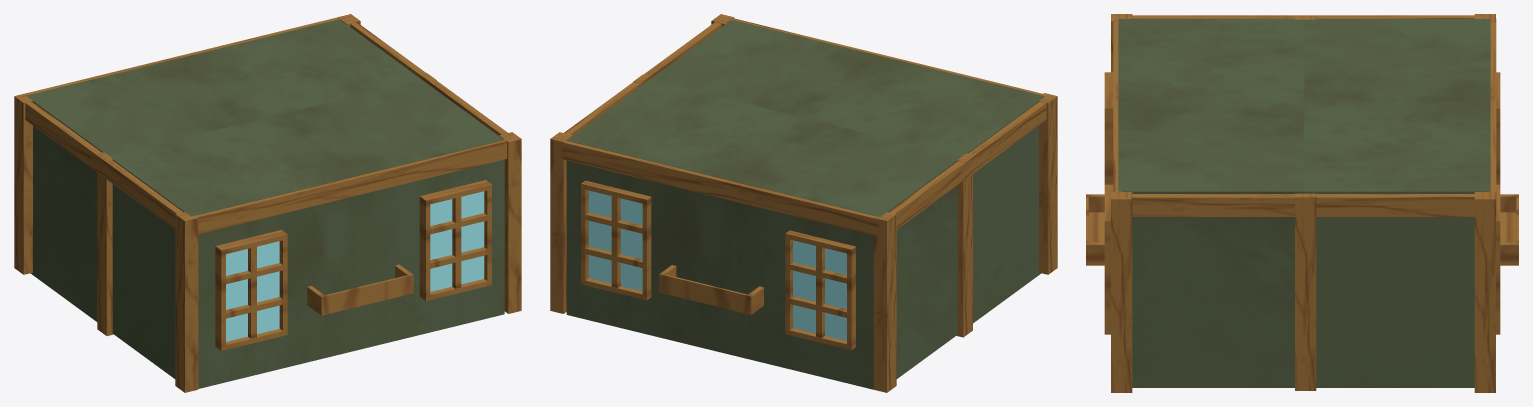
File: Apartment4.fbx
The picture shows the model from 3 angles, left to right: view 1: azimuth 30°, elevation 25°; view 2: azimuth 150°, elevation 25°; view 3: azimuth 270°, elevation 25°; orthographic projection. The views are drawn at different scales.
Parts seen in each view (by area): view 1: polySurface1280; view 2: polySurface1280; view 3: polySurface1280.
Part boxes in pixels (bbox=[...]): polySurface1280: bbox=[14, 14, 521, 392]; polySurface1280: bbox=[550, 14, 1057, 392]; polySurface1280: bbox=[1086, 14, 1518, 392].
Bounding box in the file's own units: 1.81 × 0.9015 × 1.79.
